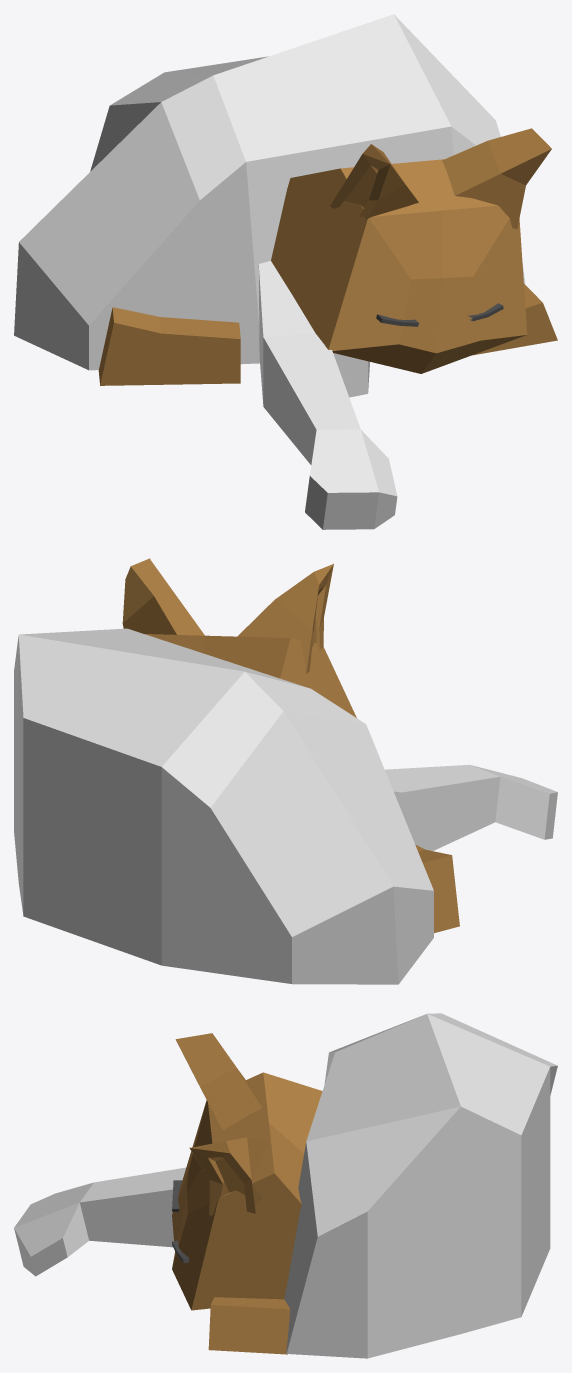
Rendered from cat.fbx.
3 views of the same model, one above another, from view 1: azimuth 30°, elevation 25°; view 2: azimuth 150°, elevation 25°; view 3: azimuth 270°, elevation 25° (orthographic). The views are drawn at different scales.
Parts seen in each view (by area): view 1: Cat.001, Cat, Cat.003, Cat.004; view 2: Cat.001, Cat, Cat.003, Cat.004; view 3: Cat.001, Cat, Cat.003.
Boxes of the visible parts, x1=… form: Cat.001: x1=14, y1=14, x2=525, y2=370; Cat: x1=271, y1=128, x2=557, y2=373; Cat.003: x1=258, y1=261, x2=397, y2=529; Cat.004: x1=98, y1=307, x2=240, y2=385; Cat.001: x1=14, y1=628, x2=433, y2=984; Cat: x1=122, y1=558, x2=356, y2=717; Cat.003: x1=385, y1=764, x2=557, y2=850; Cat.004: x1=415, y1=844, x2=459, y2=933; Cat.001: x1=284, y1=1013, x2=557, y2=1358; Cat: x1=172, y1=1033, x2=322, y2=1354; Cat.003: x1=14, y1=1167, x2=185, y2=1276.
Size of the model in its own units: 469 by 306 by 542.
